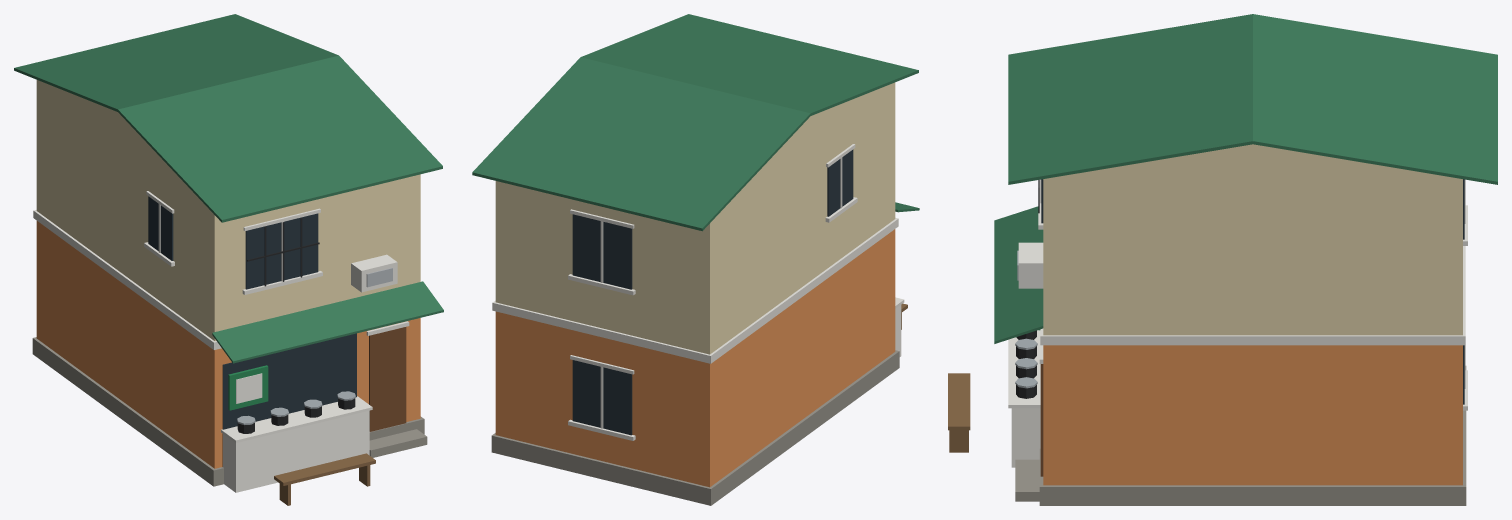
The model's file is BAY_F_TwoStorey_I.glb.
3 views of the same model, side by side, from view 1: azimuth 30°, elevation 25°; view 2: azimuth 150°, elevation 25°; view 3: azimuth 270°, elevation 25° (orthographic). The views are drawn at different scales.
Visible parts, largest first — view 1: BAY_F_TwoStorey_I; view 2: BAY_F_TwoStorey_I; view 3: BAY_F_TwoStorey_I.
Part boxes in pixels (x1,y1,x2,y2): BAY_F_TwoStorey_I: (14,14,443,505); BAY_F_TwoStorey_I: (472,14,919,505); BAY_F_TwoStorey_I: (948,14,1497,505).
Bounding box in the file's own units: 4.3 × 5.8 × 7.86.
Materials: 1 (1 with a texture image).
